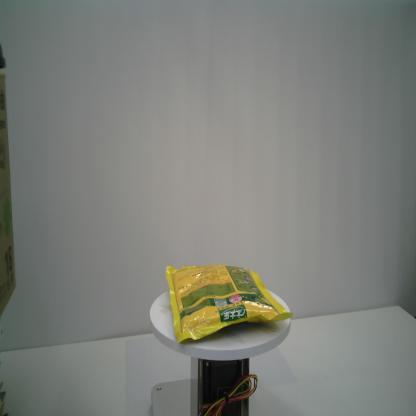Seasoner: (163, 262, 296, 346)
